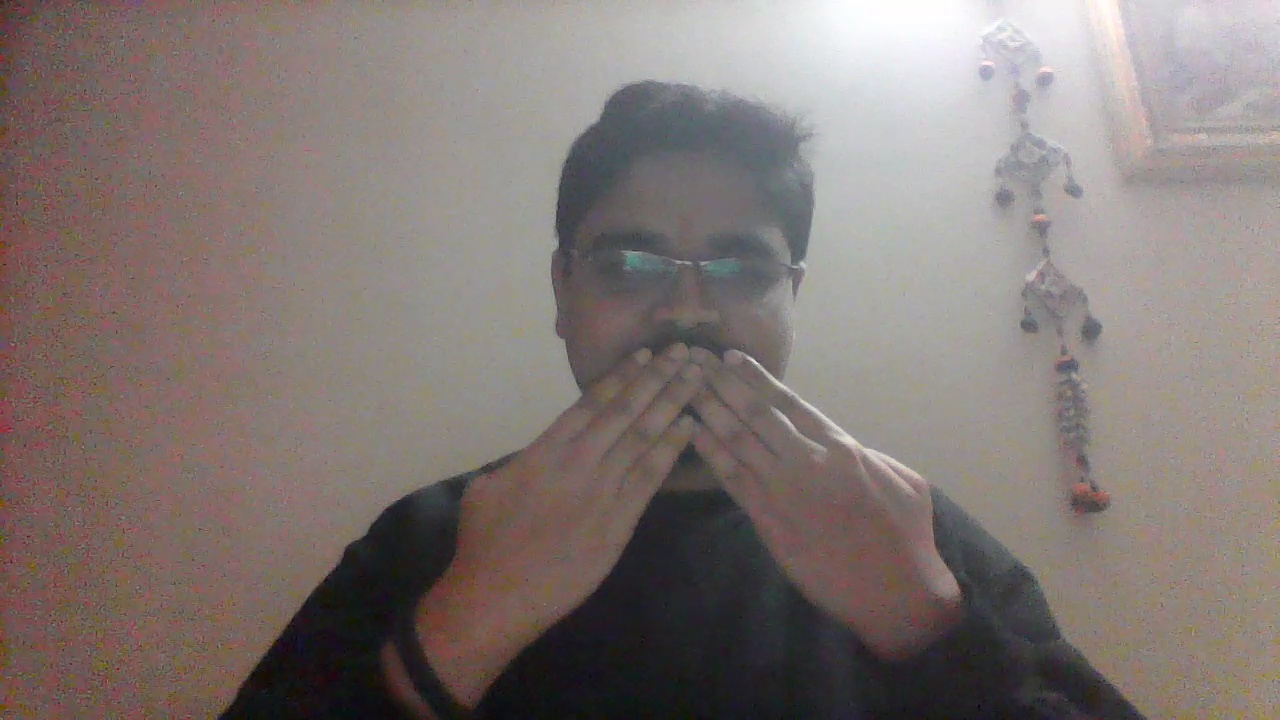Thanks: (453, 339, 936, 647)
